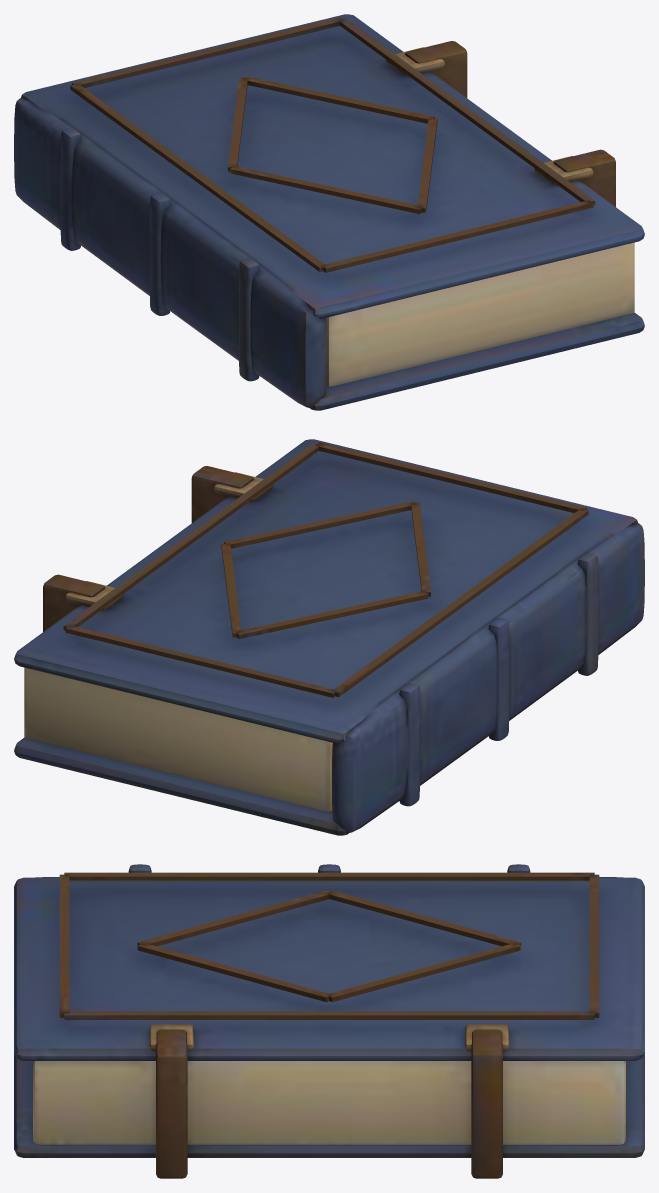
Rendered from dyer.glb.
3 views of the same model, one above another, from view 1: azimuth 30°, elevation 25°; view 2: azimuth 150°, elevation 25°; view 3: azimuth 270°, elevation 25° (orthographic). The views are drawn at different scales.
Visible parts, largest first — view 1: dyer; view 2: dyer; view 3: dyer.
Part boxes in pixels (x1,y1,x2,y2): dyer: (14, 14, 644, 410); dyer: (14, 439, 644, 835); dyer: (14, 864, 644, 1178).
Size of the model in its own units: 0.149 by 0.0478 by 0.2.
1 material, 1 textured.
